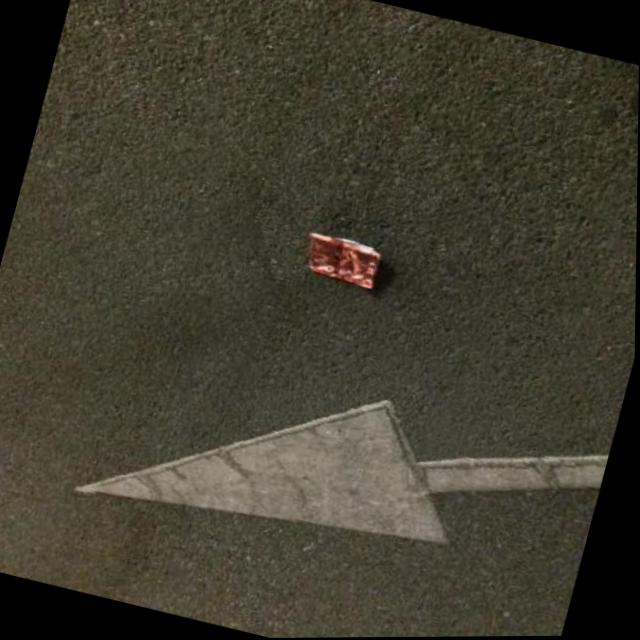plastic: (298, 230, 383, 290)
